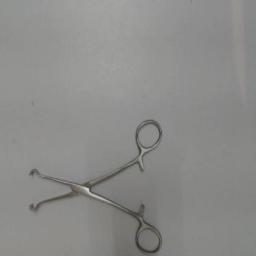Babcock Tissue Forceps: (24, 112, 168, 254)
